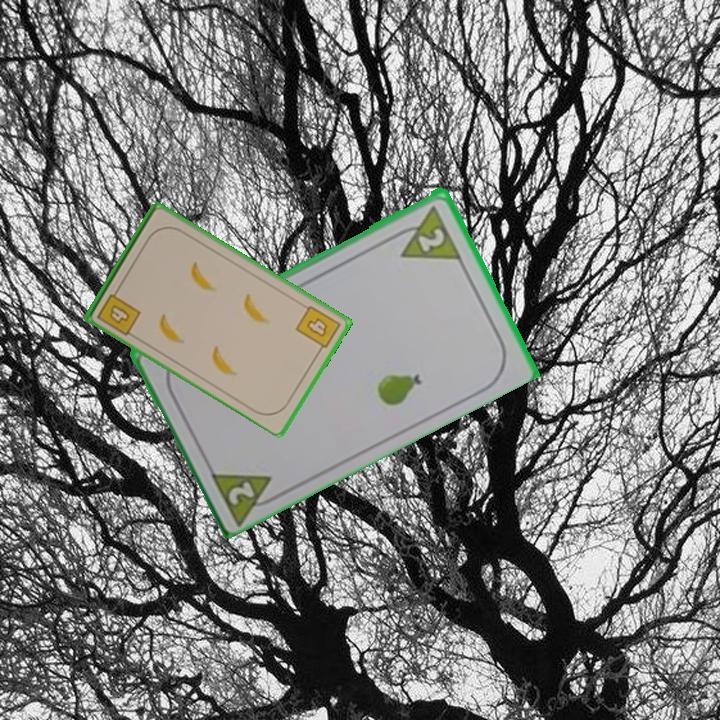2p: (205, 464, 286, 525), (388, 201, 464, 263)
4b: (93, 283, 144, 339), (292, 302, 343, 356)
